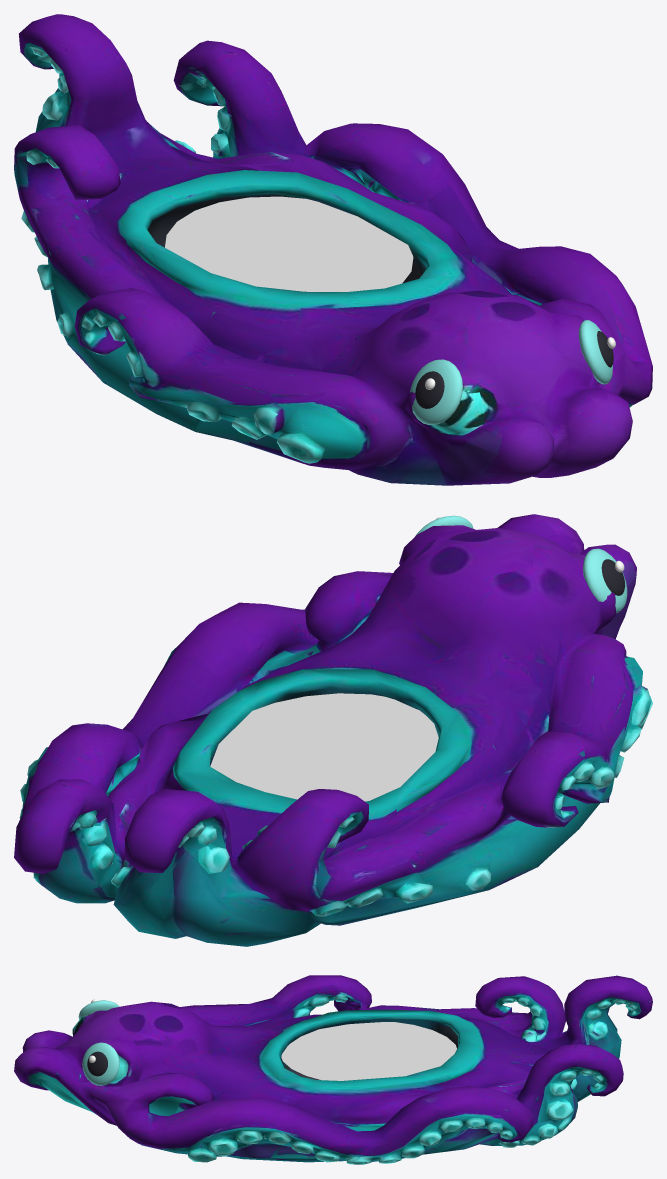
Rendered from Kayak_Kraken.glb.
3 renders of one model, top to bottom at view 1: azimuth 30°, elevation 25°; view 2: azimuth 150°, elevation 25°; view 3: azimuth 270°, elevation 25°, orthographic. The views are drawn at different scales.
Visible parts, largest first — view 1: Kayak_Kraken, Kayak_Kraken_Cockpit, Kraken_EyeRing, Kraken_Pupil; view 2: Kayak_Kraken, Kayak_Kraken_Cockpit, Kraken_EyeRing; view 3: Kayak_Kraken, Kayak_Kraken_Cockpit, Kraken_EyeRing, Kraken_Pupil.
Part boxes in pixels (x1,y1,x2,y2): Kayak_Kraken: (14, 14, 652, 485); Kayak_Kraken_Cockpit: (165, 196, 413, 291); Kraken_EyeRing: (410, 320, 612, 424); Kraken_Pupil: (415, 331, 613, 408); Kayak_Kraken: (14, 514, 652, 946); Kayak_Kraken_Cockpit: (210, 693, 438, 801); Kraken_EyeRing: (415, 515, 627, 612); Kayak_Kraken: (14, 975, 652, 1164); Kayak_Kraken_Cockpit: (281, 1022, 456, 1080); Kraken_EyeRing: (78, 1000, 119, 1085); Kraken_Pupil: (87, 1051, 107, 1076).
Bounding box in the file's own units: 5.22 × 1.99 × 10.
5 materials, 1 textured.
